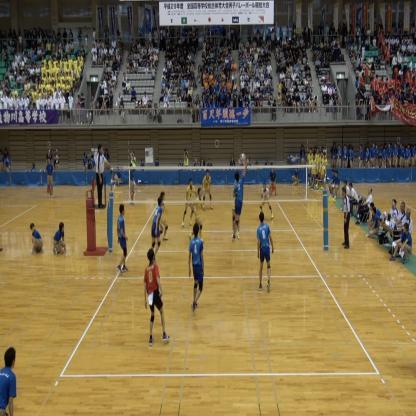spike: (230, 152, 251, 244)
